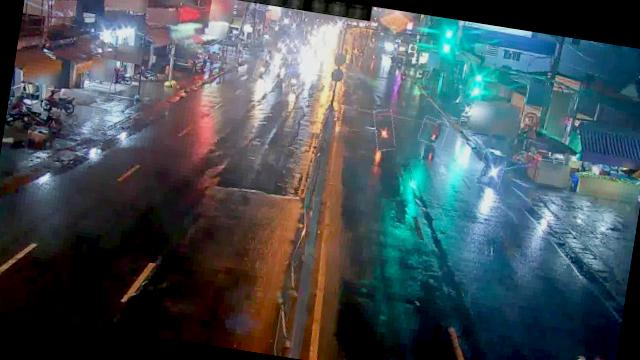Bike: (476, 150, 506, 190), (371, 108, 398, 152), (42, 88, 76, 116), (418, 116, 448, 146), (286, 66, 304, 92), (253, 57, 270, 80), (275, 60, 290, 82)
